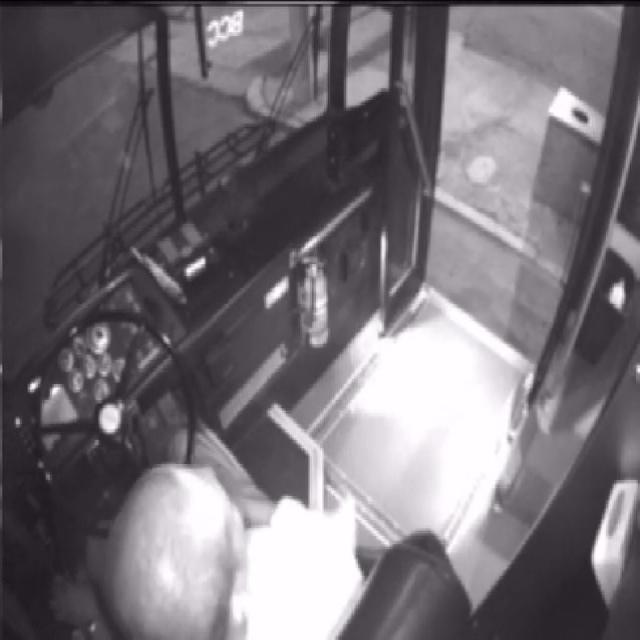bus-door: (387, 9, 639, 397)
